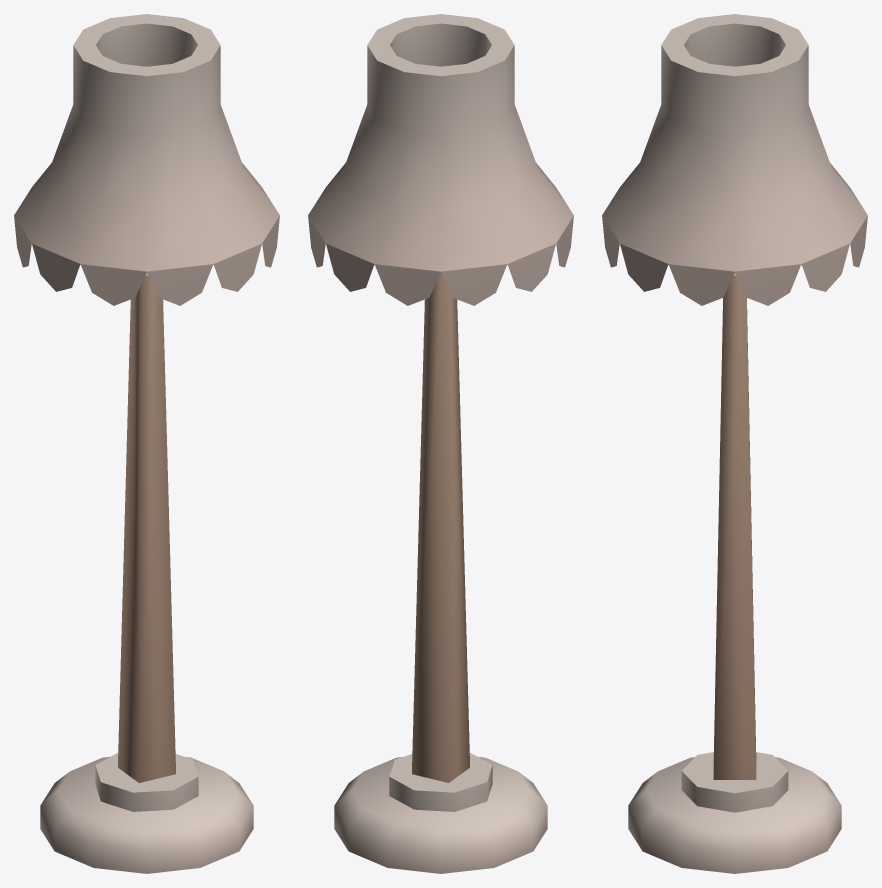
The model's file is lamp-old-standing (%secret).glb.
The picture shows the model from 3 angles, left to right: view 1: azimuth 30°, elevation 25°; view 2: azimuth 150°, elevation 25°; view 3: azimuth 270°, elevation 25°; orthographic projection.
Visible parts, largest first — view 1: lamp-old-standing (%secret); view 2: lamp-old-standing (%secret); view 3: lamp-old-standing (%secret).
Boxes of the visible parts, left/top/right/bottom form: lamp-old-standing (%secret): left=14, top=14, right=279, bottom=873; lamp-old-standing (%secret): left=308, top=14, right=573, bottom=873; lamp-old-standing (%secret): left=602, top=14, right=867, bottom=873.
Bounding box in the file's own units: 0.3115 × 1.01 × 0.3115.
